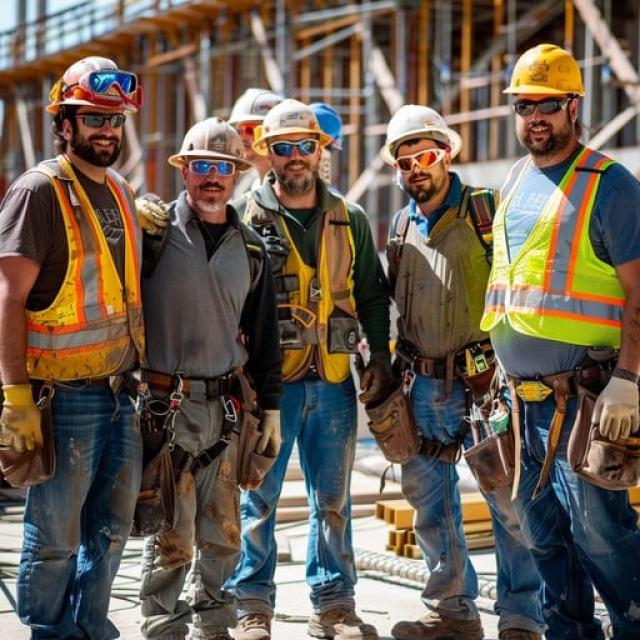Boots: (221, 588, 383, 640), (391, 607, 545, 640)
Gloves: (590, 362, 640, 460), (1, 382, 46, 451), (252, 405, 299, 465), (363, 346, 398, 416), (131, 182, 173, 239)
Hard Hat: (43, 50, 145, 114), (374, 100, 471, 164), (499, 40, 596, 96), (248, 99, 331, 158), (168, 114, 256, 168), (225, 82, 291, 125), (302, 96, 347, 147)
Reflective Vest: (477, 140, 639, 360), (3, 153, 149, 384), (239, 175, 373, 396)
Safety Glasses: (388, 147, 449, 173), (60, 108, 127, 130), (264, 140, 336, 160), (510, 98, 579, 118), (180, 159, 237, 177)
